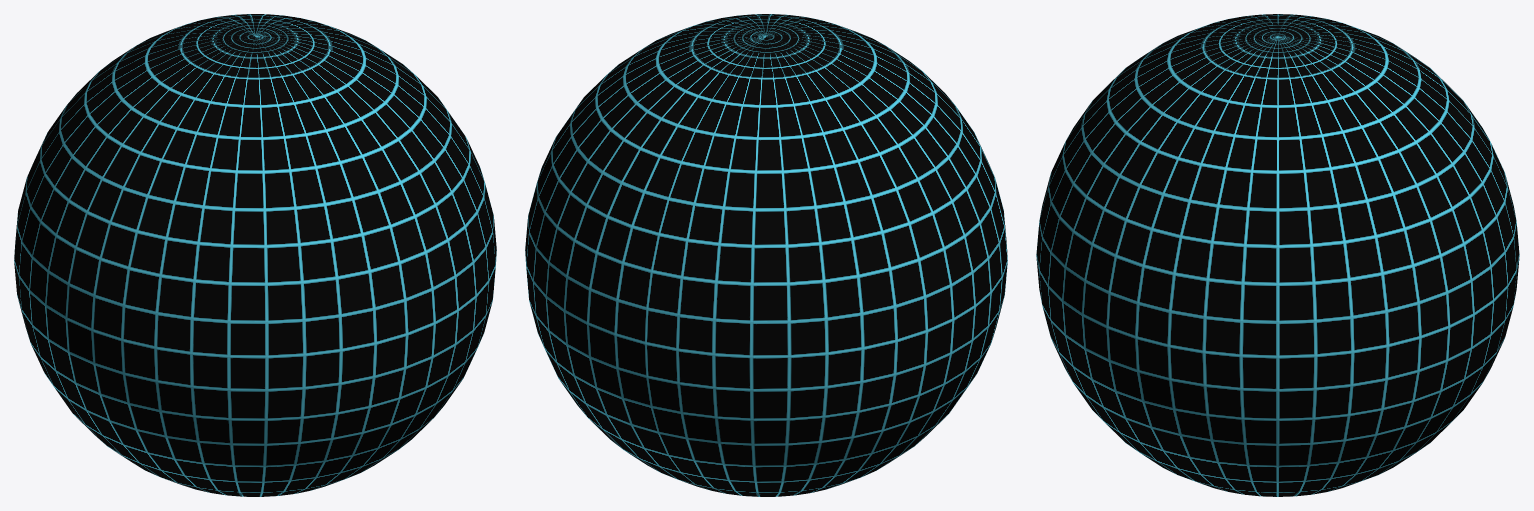
File: Sphere_Destruction_Blendshape.FBX
3 views of the same model, side by side, from view 1: azimuth 30°, elevation 25°; view 2: azimuth 150°, elevation 25°; view 3: azimuth 270°, elevation 25° (orthographic).
Visible parts, largest first — view 1: Sphere001; view 2: Sphere001; view 3: Sphere001.
Boxes of the visible parts, bbox=[...] form: Sphere001: bbox=[14, 14, 496, 496]; Sphere001: bbox=[525, 14, 1007, 496]; Sphere001: bbox=[1036, 14, 1519, 496].
Size of the model in its own units: 248 by 248 by 248.
